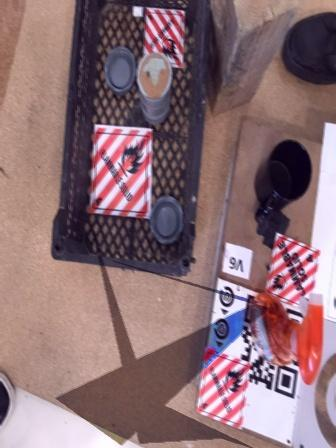flammable-solid: (88, 124, 156, 217), (194, 344, 251, 428), (264, 230, 322, 310), (140, 3, 184, 68)
